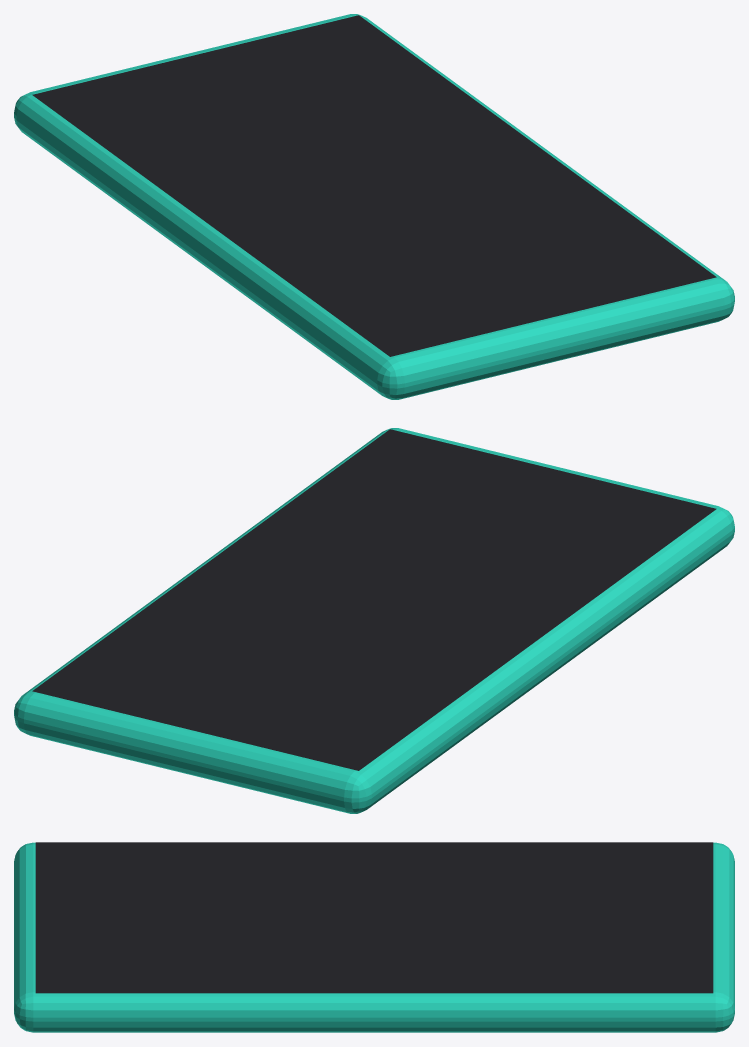
Rendered from Phone_551.glb.
3 views of the same model, one above another, from view 1: azimuth 30°, elevation 25°; view 2: azimuth 150°, elevation 25°; view 3: azimuth 270°, elevation 25° (orthographic). The views are drawn at different scales.
Parts seen in each view (by area): view 1: Phone_Screen, Phone_Body; view 2: Phone_Screen, Phone_Body; view 3: Phone_Screen, Phone_Body.
Boxes of the visible parts, x1=… form: Phone_Screen: x1=32, y1=15, x2=716, y2=356; Phone_Body: x1=14, y1=14, x2=734, y2=399; Phone_Screen: x1=32, y1=429, x2=716, y2=770; Phone_Body: x1=14, y1=428, x2=734, y2=813; Phone_Screen: x1=35, y1=842, x2=713, y2=993; Phone_Body: x1=14, y1=842, x2=734, y2=1032.
Size of the model in its own units: 0.0756 by 0.0084 by 0.1404.
